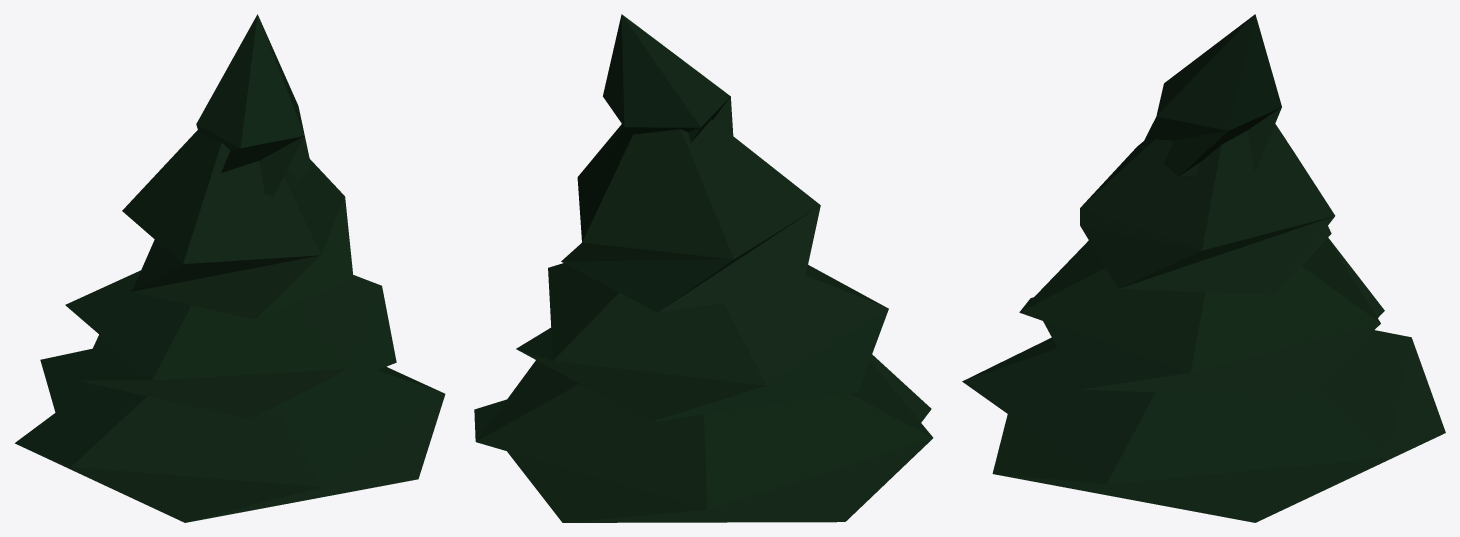
Rendered from SM_Tree18.fbx.
The picture shows the model from 3 angles, left to right: view 1: azimuth 30°, elevation 25°; view 2: azimuth 150°, elevation 25°; view 3: azimuth 270°, elevation 25°; orthographic projection. The views are drawn at different scales.
Visible parts, largest first — view 1: Tree17; view 2: Tree17; view 3: Tree17.
Boxes of the visible parts, x1,y1,x2,y2 form: Tree17: [15, 14, 445, 522]; Tree17: [474, 14, 933, 522]; Tree17: [962, 14, 1445, 522].
Size of the model in its own units: 171 by 182 by 174.
